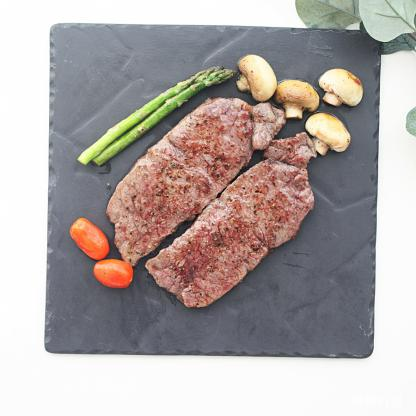Carne: (149, 132, 330, 308), (105, 96, 286, 266)
